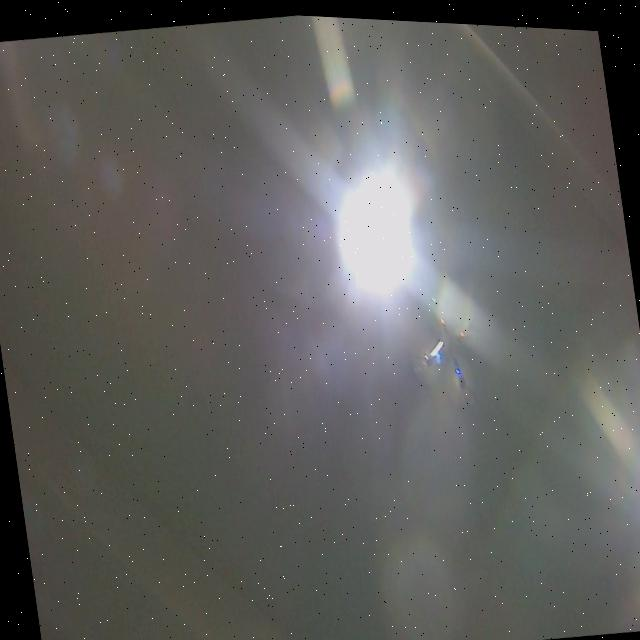drone: (400, 259, 500, 417)
